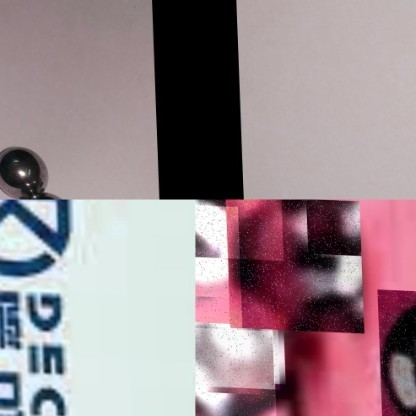ironball: (224, 199, 362, 330), (195, 263, 277, 387), (195, 324, 274, 415), (195, 200, 240, 325), (375, 286, 415, 415), (195, 199, 282, 258), (0, 137, 46, 198)
